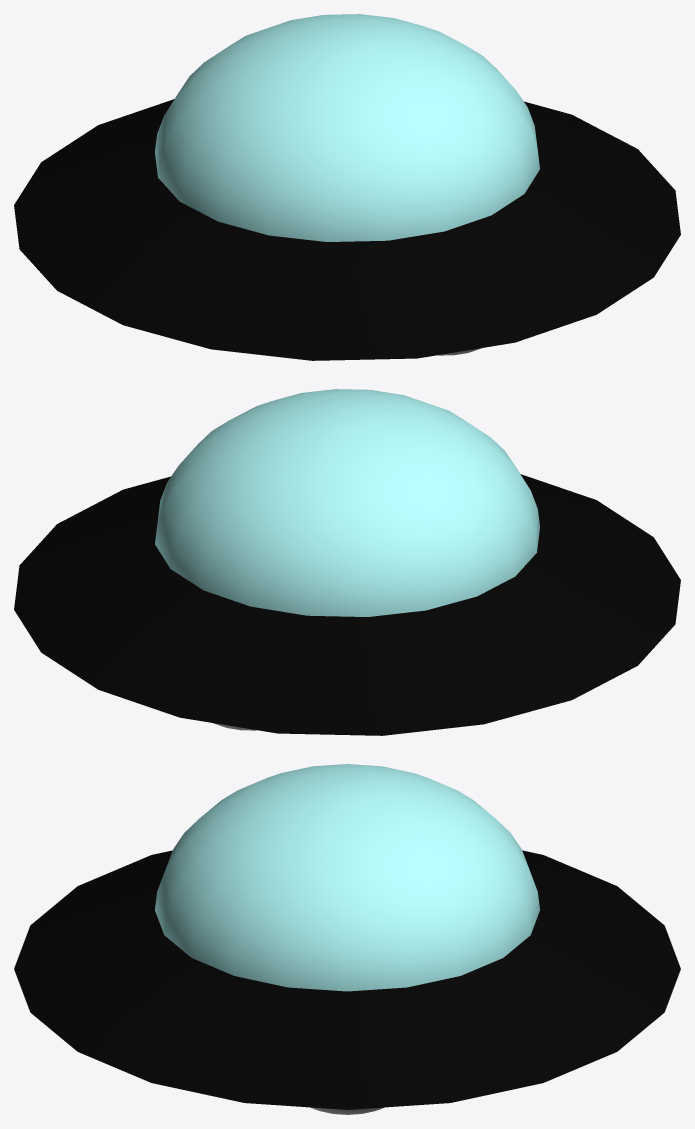
File: UFO.obj
3 renders of one model, top to bottom at view 1: azimuth 30°, elevation 25°; view 2: azimuth 150°, elevation 25°; view 3: azimuth 270°, elevation 25°, orthographic.
Visible parts, largest first — view 1: pCylinder1, pSphere1; view 2: pCylinder1, pSphere1; view 3: pCylinder1, pSphere1.
Part boxes in pixels (left/top/right/bottom): pCylinder1: left=14, top=99, right=680, bottom=360; pSphere1: left=155, top=14, right=539, bottom=241; pCylinder1: left=14, top=474, right=680, bottom=735; pSphere1: left=155, top=389, right=539, bottom=616; pCylinder1: left=14, top=850, right=680, bottom=1109; pSphere1: left=155, top=764, right=539, bottom=991.
Size of the model in its own units: 3.46 by 1.34 by 3.46.
3 materials, 1 textured.
